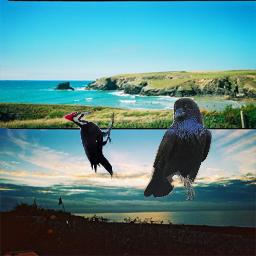Crow: (144, 97, 212, 200)
Woodpecker: (63, 111, 115, 179)
